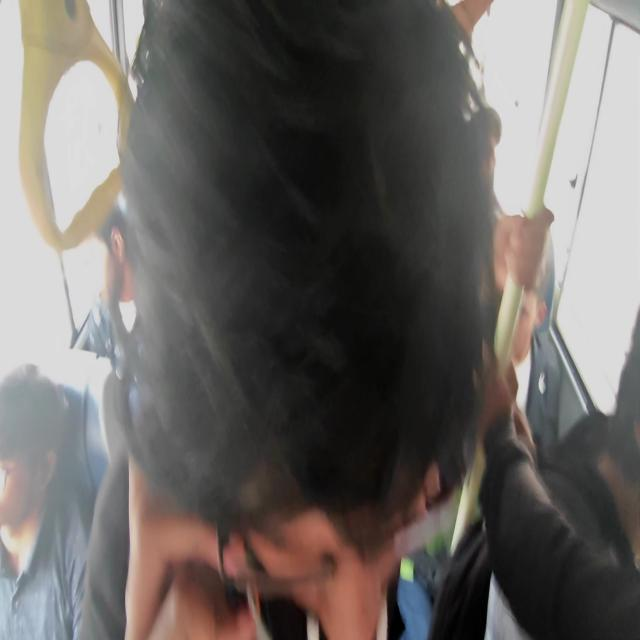person: (200, 457, 413, 638), (578, 293, 640, 569), (0, 406, 66, 570), (477, 102, 514, 180), (103, 230, 130, 314), (508, 303, 540, 371)
